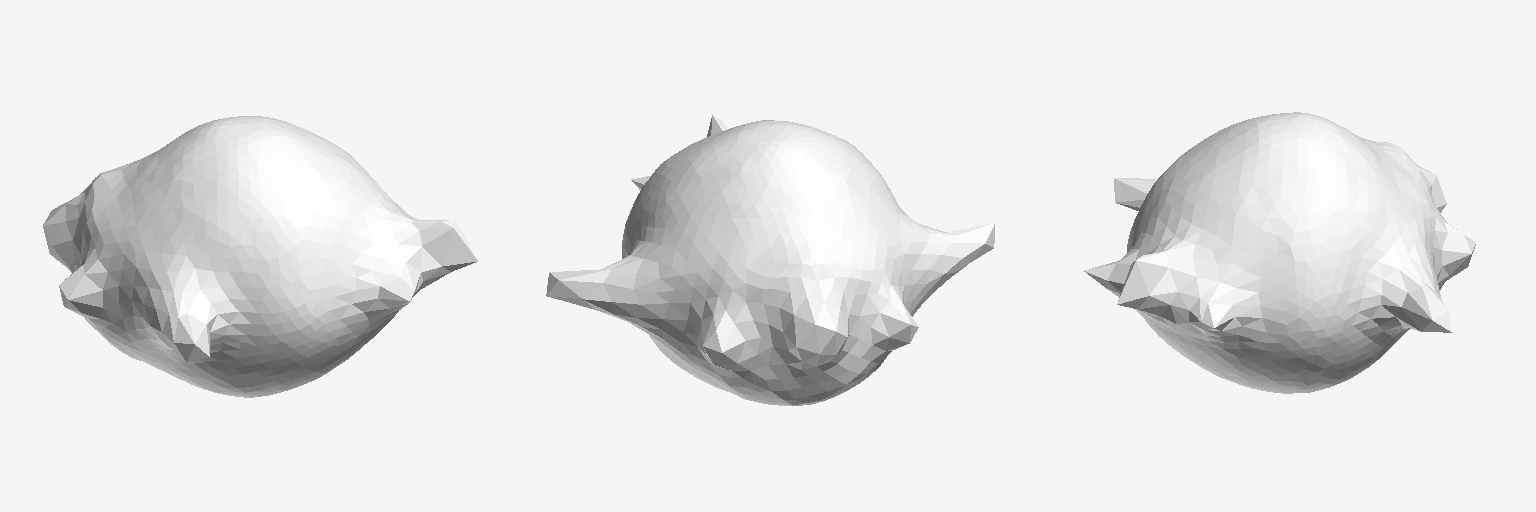
3 views of the same model, side by side, from view 1: azimuth 30°, elevation 25°; view 2: azimuth 150°, elevation 25°; view 3: azimuth 270°, elevation 25° (orthographic).
Bounding box in the file's own units: 1.08 × 0.7863 × 1.08.
Materials: 1 (1 with a texture image).